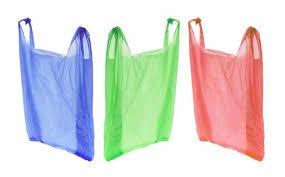Plastic: (183, 15, 270, 169), (14, 10, 99, 165), (101, 15, 184, 170)
